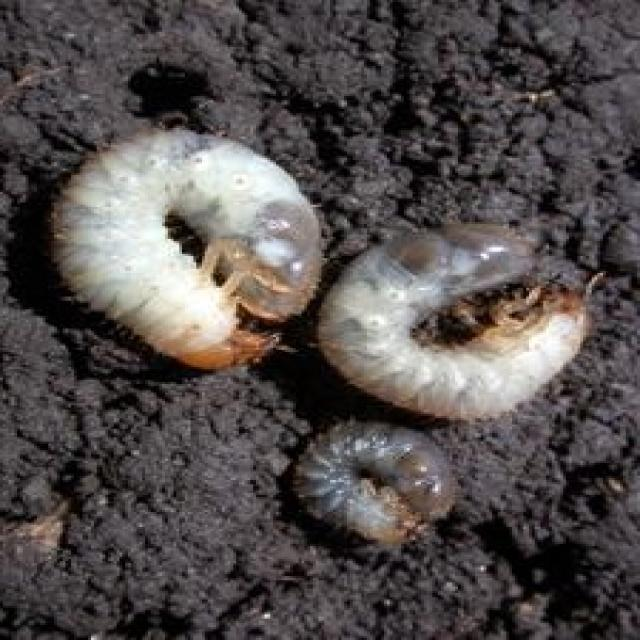grub: (48, 133, 324, 385), (324, 216, 600, 430), (290, 419, 452, 556)
